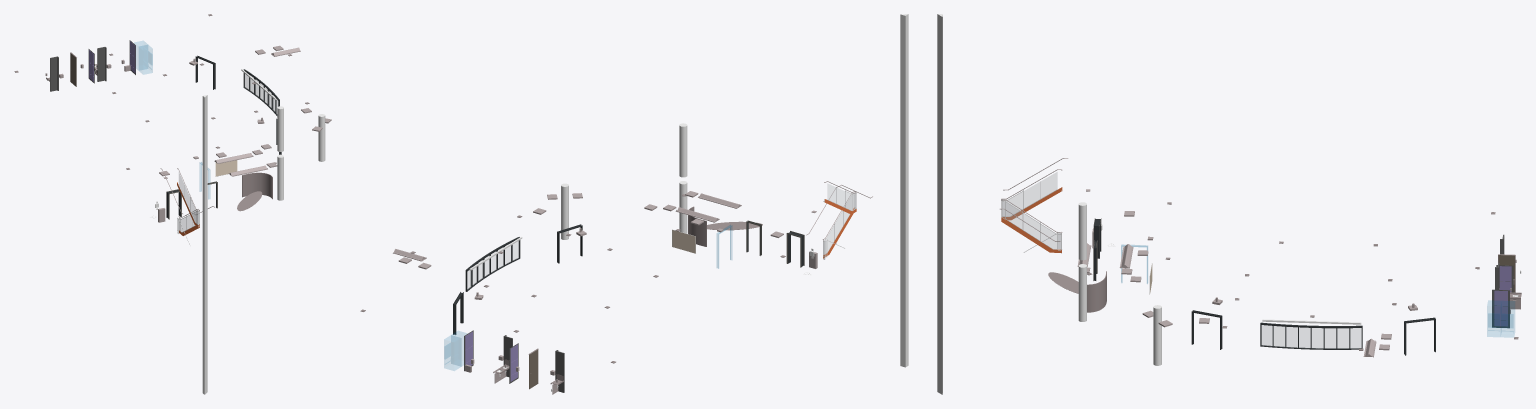
3 views of the same model, side by side, from view 1: azimuth 30°, elevation 25°; view 2: azimuth 150°, elevation 25°; view 3: azimuth 270°, elevation 25° (orthographic). The views are drawn at different scales.
Parts seen in each view (by area): view 1: 0, 5, 7, 2, 1, 9, 6, 8, 4; view 2: 0, 5, 2, 1, 7, 6, 9, 8; view 3: 0, 2, 5, 1, 7, 6, 8, 3, 9.
Boxes of the visible parts, box(x1,y1,x2,y2) form: 0: box(46, 65, 325, 394); 5: box(45, 45, 331, 222); 7: box(14, 14, 309, 211); 2: box(177, 74, 277, 232); 1: box(167, 55, 281, 218); 9: box(50, 40, 135, 91); 6: box(134, 41, 209, 198); 8: box(89, 41, 135, 81); 4: box(215, 160, 237, 176); 0: box(469, 14, 908, 391); 5: box(393, 181, 872, 394); 2: box(467, 183, 856, 289); 1: box(453, 221, 803, 334); 7: box(360, 194, 785, 384); 6: box(444, 225, 731, 370); 9: box(464, 330, 564, 392); 8: box(465, 331, 517, 381); 0: box(937, 14, 1521, 394); 2: box(1002, 172, 1361, 348); 5: box(1000, 158, 1520, 357); 1: box(1094, 219, 1435, 355); 7: box(1048, 202, 1521, 350); 6: box(1121, 245, 1514, 336); 8: box(1494, 266, 1511, 326); 3: box(1001, 187, 1062, 252); 9: box(1492, 234, 1513, 328).
Bounding box in the file's own units: 22.75 × 24.46 × 34.27.
